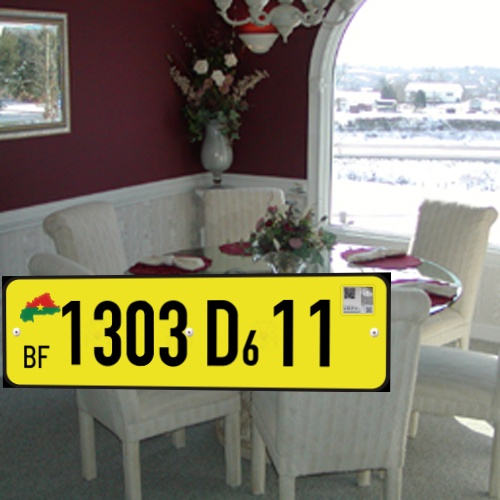plate: (1, 263, 403, 411)
